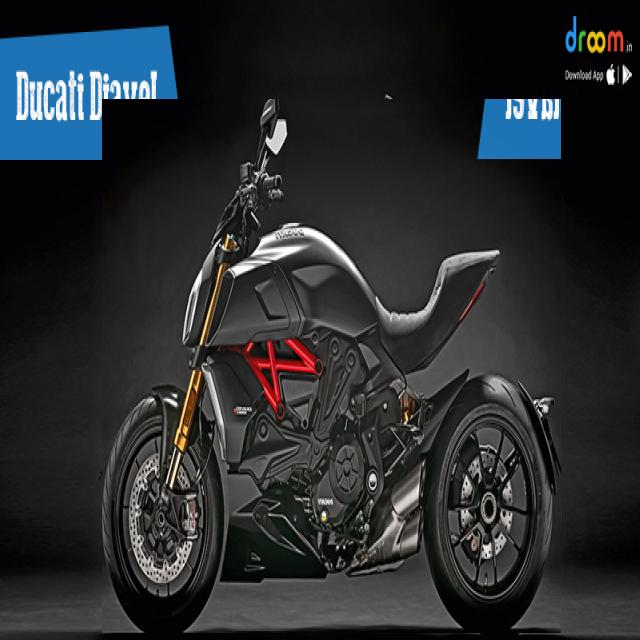motorcycle: (102, 100, 561, 633)
